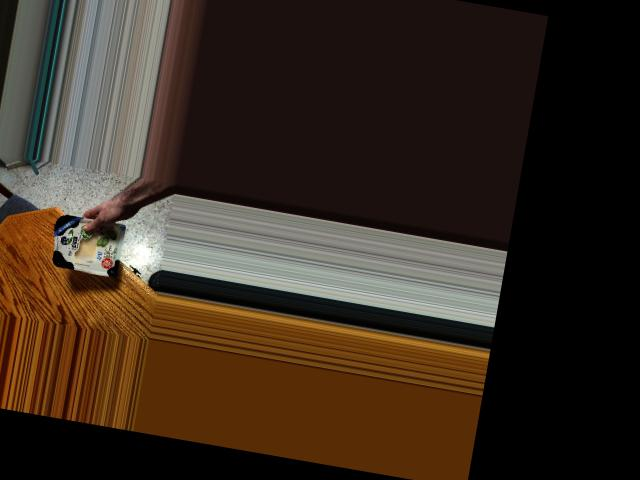cheese: (48, 208, 131, 277)
